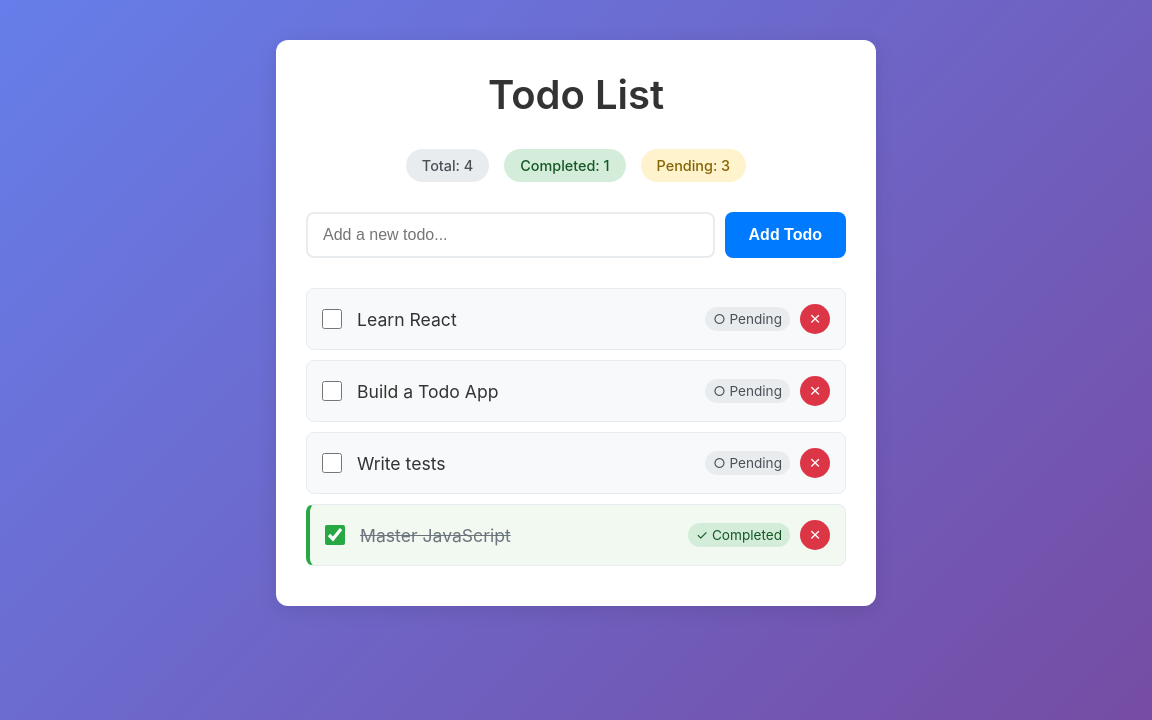
Test: TodoList Component › adds a new todo when form is submitted
// Simulate user typing
Type "New Test Todo" into the field named "New todo input" at (510, 235), box top-left (306, 212), bottom-right (714, 258)
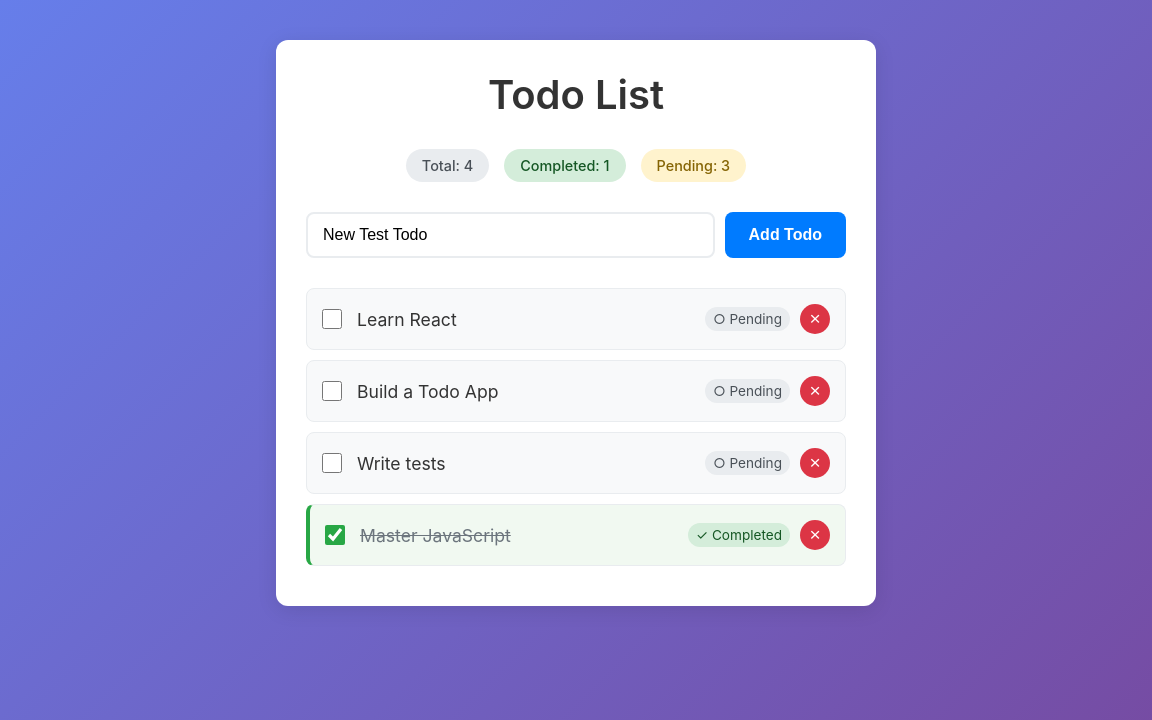
// Simulate form submission
Click the button "Add Todo" at (785, 235), box top-left (724, 212), bottom-right (846, 258)
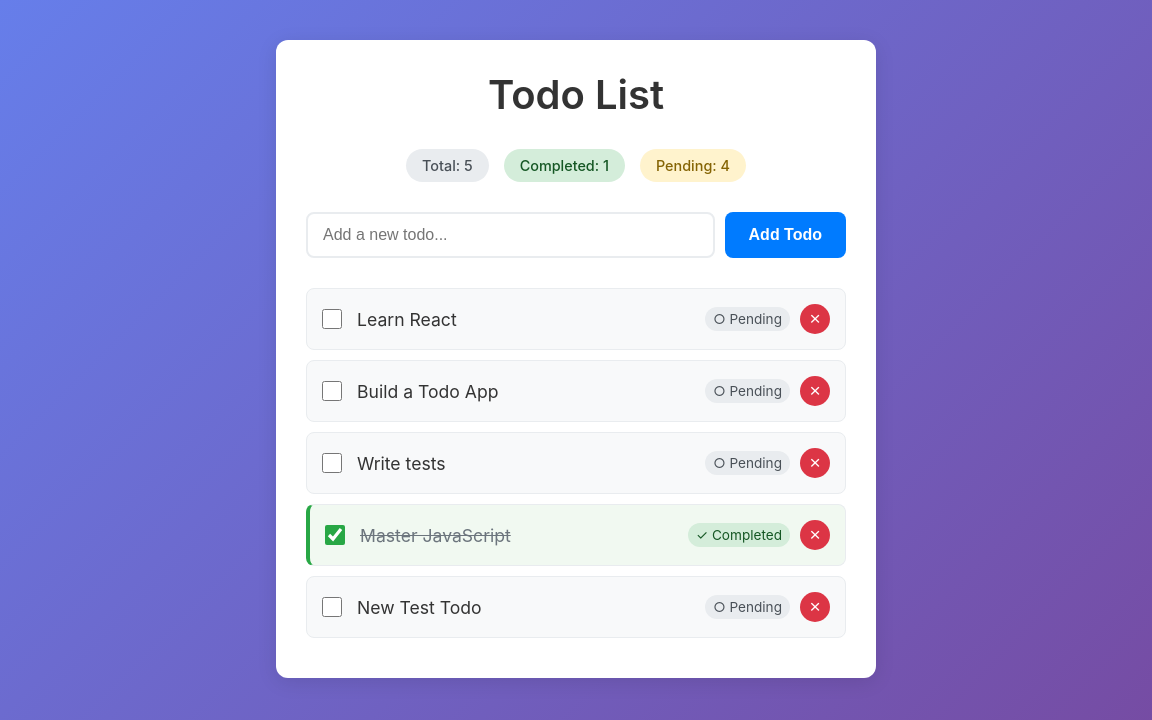
Check: the text "New Test Todo" is shown, box top-left (357, 596), bottom-right (482, 618)
Check: the field named "New todo input" is empty, box top-left (306, 212), bottom-right (714, 258)
Check: the text "Total: 5" is shown, box top-left (406, 149), bottom-right (489, 182)
